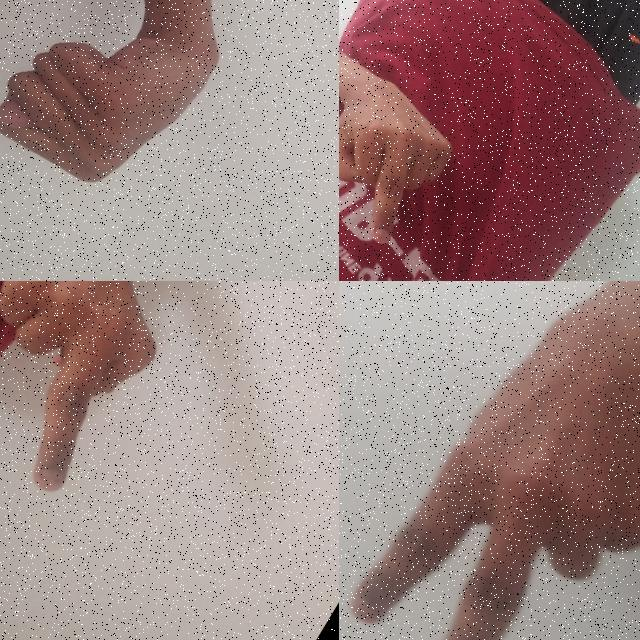Dulya: (0, 0, 226, 227)
Middle Finger: (0, 281, 230, 512), (339, 40, 486, 266)
Reversed Victory: (339, 281, 640, 640)
